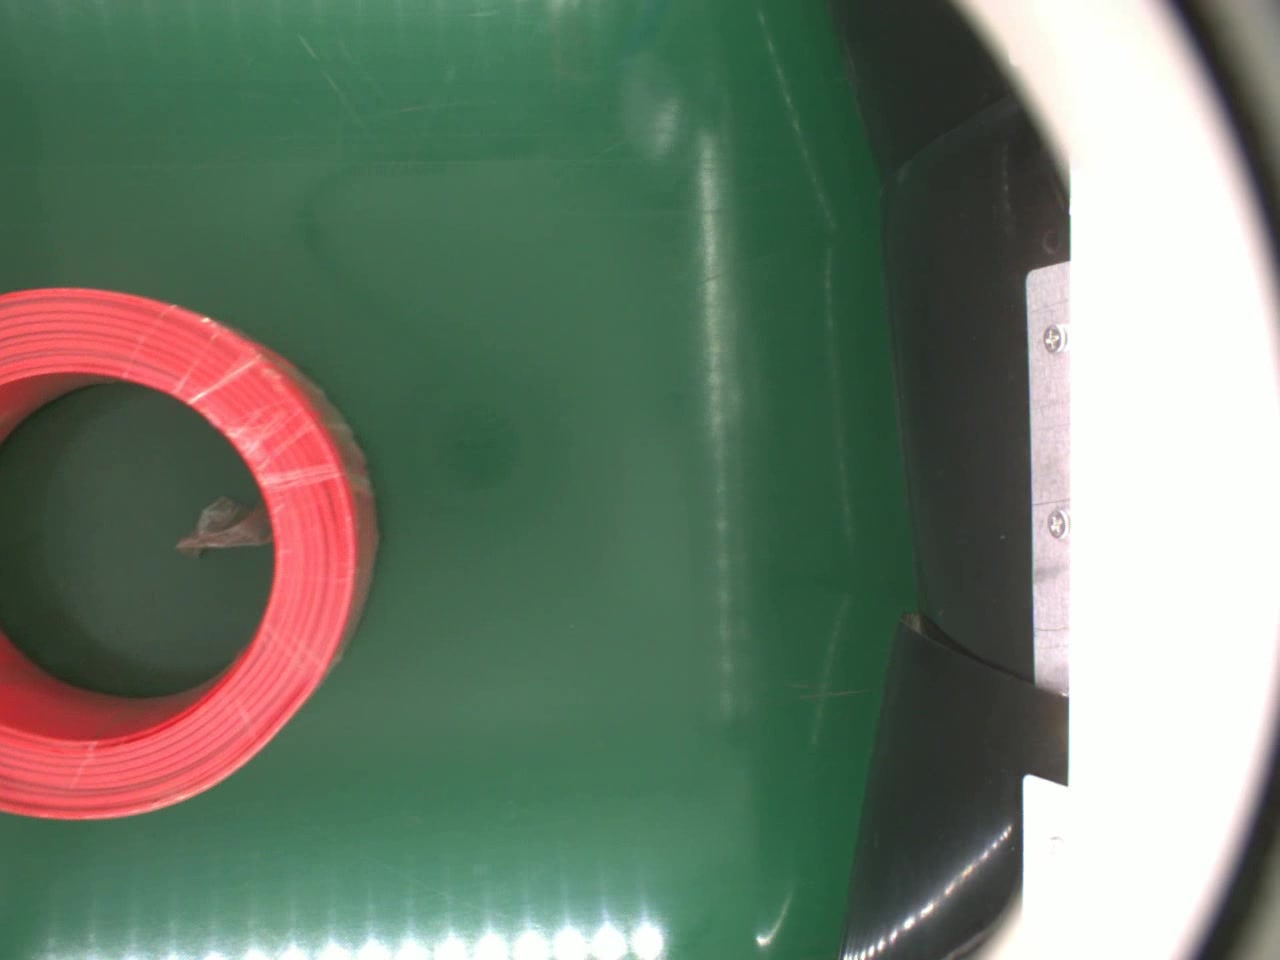red: (0, 283, 377, 818)
